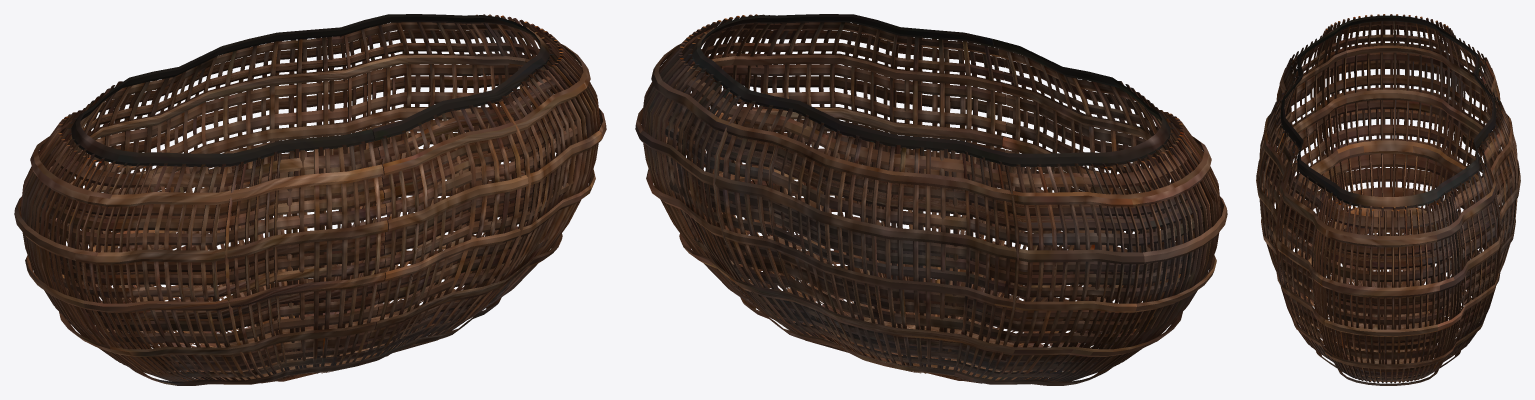
3 views of the same model, side by side, from view 1: azimuth 30°, elevation 25°; view 2: azimuth 150°, elevation 25°; view 3: azimuth 270°, elevation 25° (orthographic). The views are drawn at different scales.
Parts seen in each view (by area): view 1: vintage_basket; view 2: vintage_basket; view 3: vintage_basket.
Boxes of the visible parts, left/top/right/bottom form: vintage_basket: left=14, top=14, right=606, bottom=385; vintage_basket: left=635, top=14, right=1227, bottom=385; vintage_basket: left=1256, top=14, right=1520, bottom=385.
Bounding box in the file's own units: 55.58 × 25.49 × 27.
Materials: 1 (1 with a texture image).
